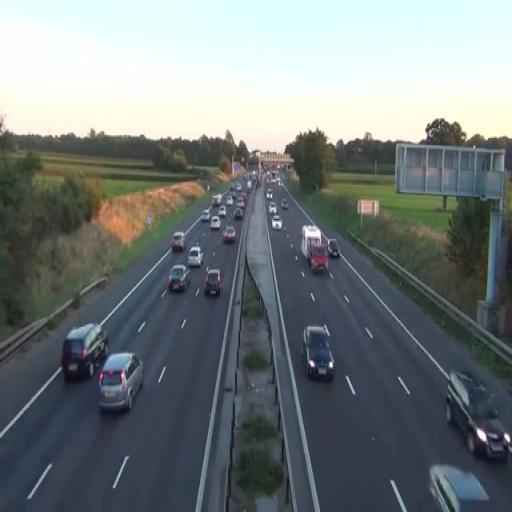Car: (446, 369, 510, 462), (428, 463, 498, 511), (61, 322, 109, 381), (98, 352, 144, 413), (302, 324, 335, 381), (167, 265, 191, 293), (203, 268, 223, 298), (172, 230, 188, 252), (188, 246, 204, 267), (222, 225, 236, 244), (234, 206, 244, 220), (272, 216, 282, 230), (211, 215, 220, 230)
Truck: (301, 224, 329, 274)
